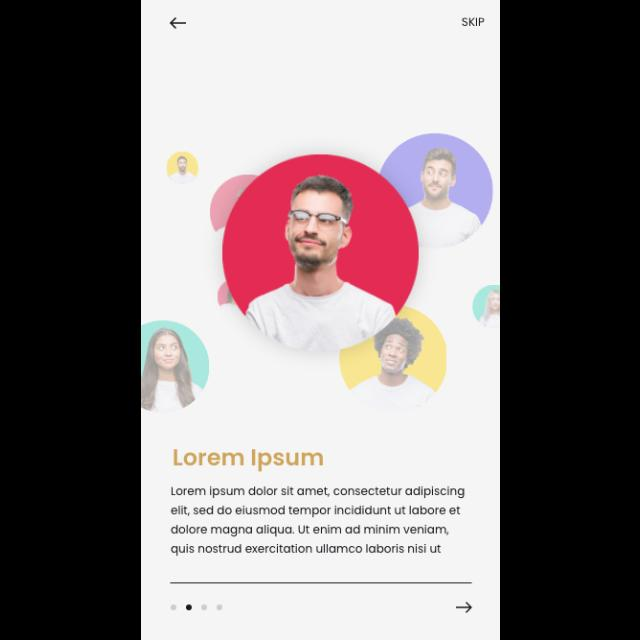icon: (456, 600, 472, 614), (168, 18, 186, 30)
image: (141, 134, 499, 412)
pageindicator: (170, 604, 223, 610)
text: (170, 486, 466, 556), (173, 448, 323, 472), (462, 18, 484, 28)
